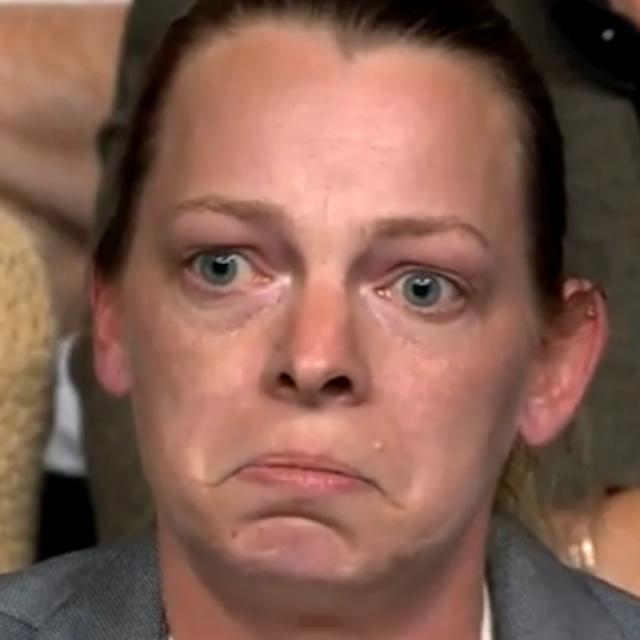Depress: (118, 26, 548, 587)
